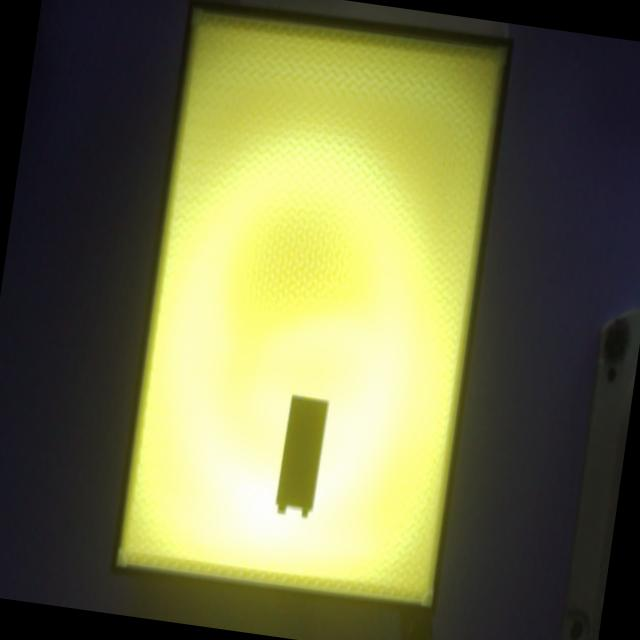bateria: (275, 393, 329, 517)
mesa: (110, 0, 515, 618)
